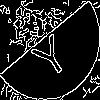Y: (25, 25, 73, 81)
